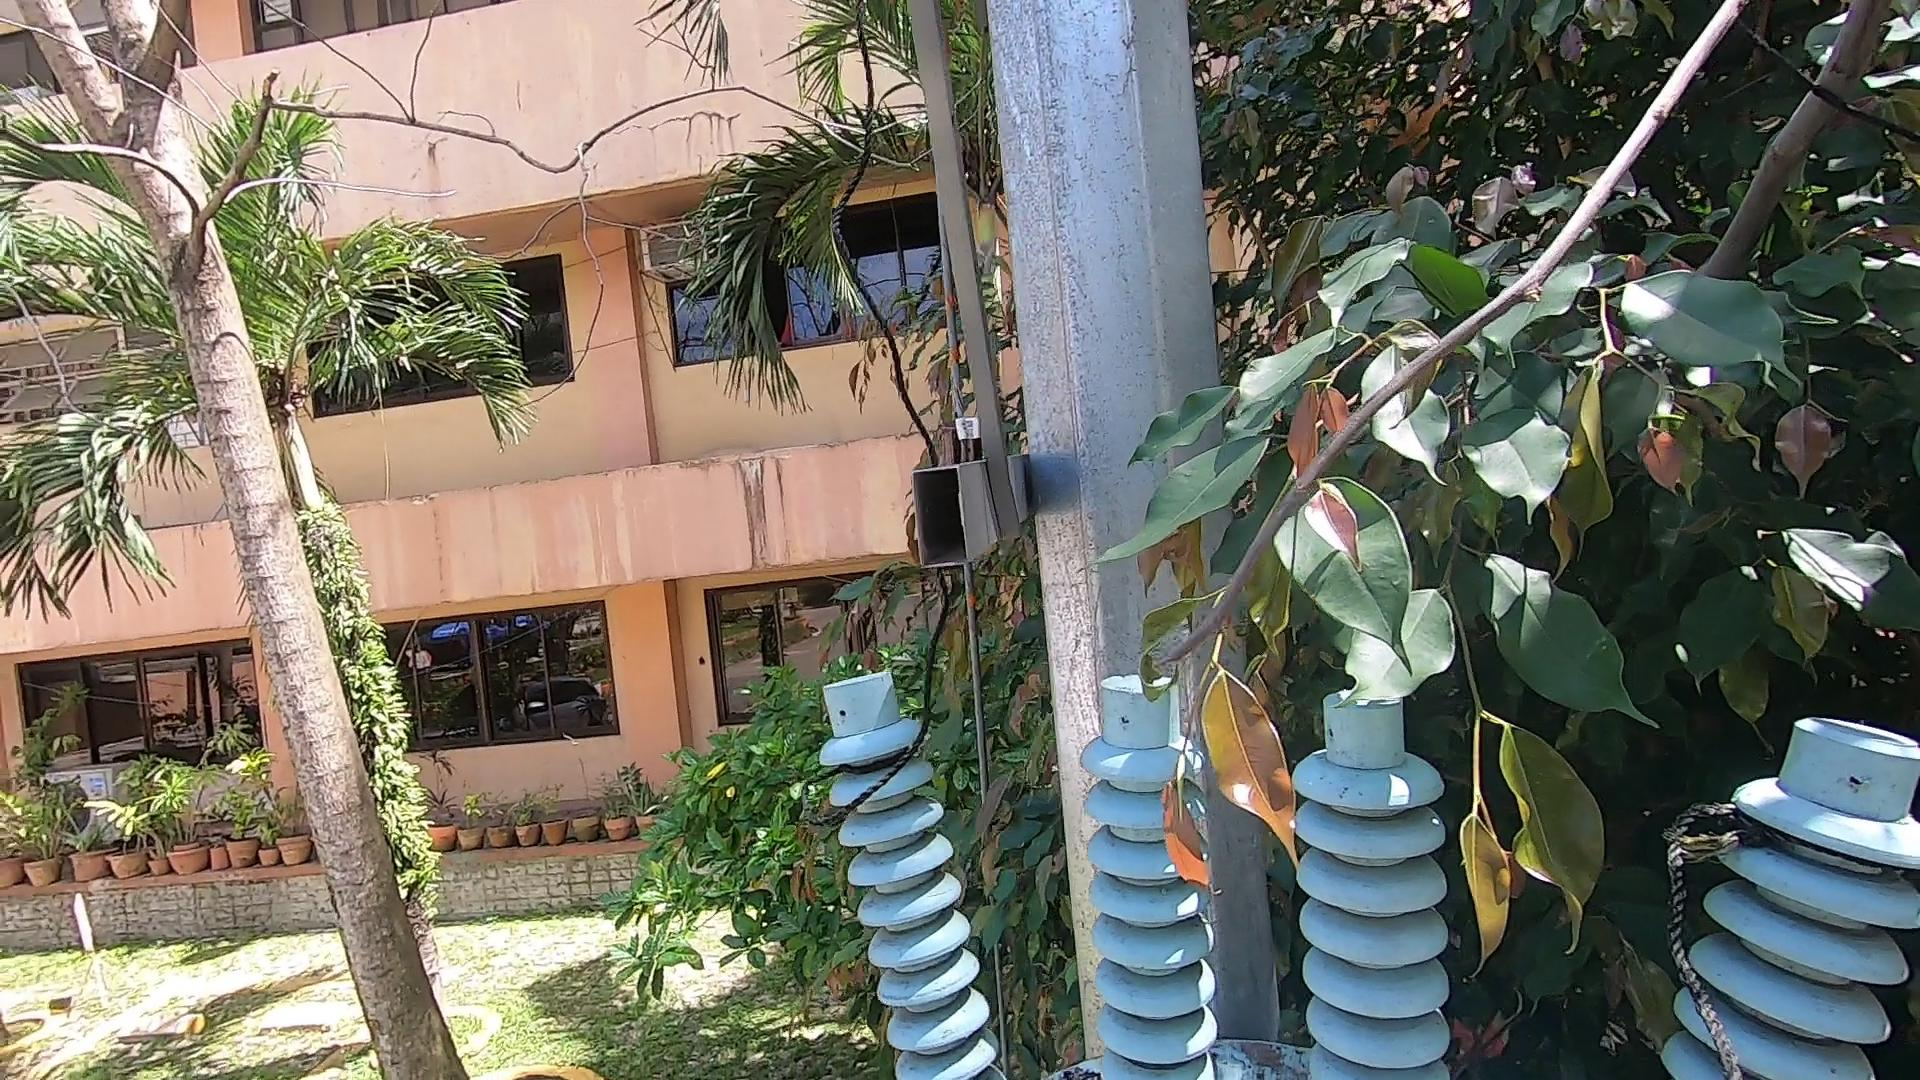tree branch: (1151, 1, 1907, 688)
